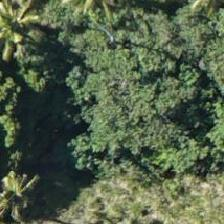coconut_tree: (0, 0, 57, 73)
